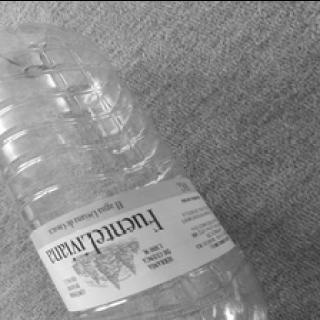plastic_bottles: (2, 26, 274, 320)
